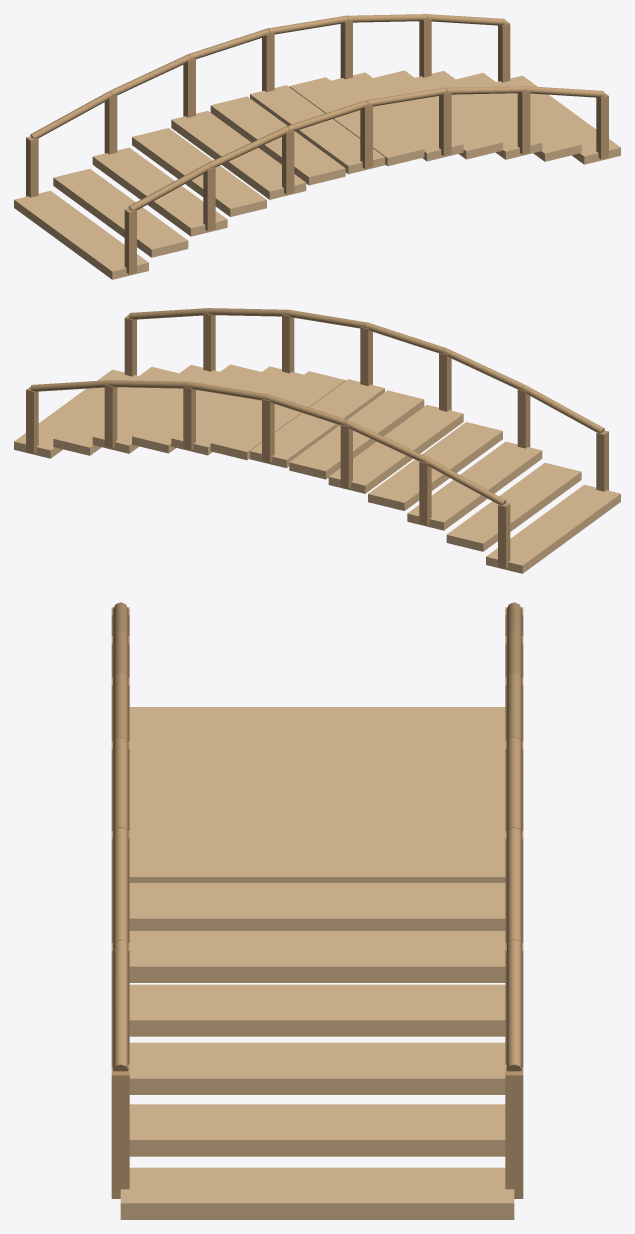
Rendered from jembatan.glb.
3 renders of one model, top to bottom at view 1: azimuth 30°, elevation 25°; view 2: azimuth 150°, elevation 25°; view 3: azimuth 270°, elevation 25°, orthographic. The views are drawn at different scales.
Parts seen in each view (by area): view 1: jembatan; view 2: jembatan; view 3: jembatan.
Boxes of the visible parts, x1=… form: jembatan: x1=14, y1=14, x2=620, y2=279; jembatan: x1=14, y1=308, x2=620, y2=573; jembatan: x1=111, y1=602, x2=523, y2=1219.
Size of the model in its own units: 3.88 by 0.8549 by 1.36.
